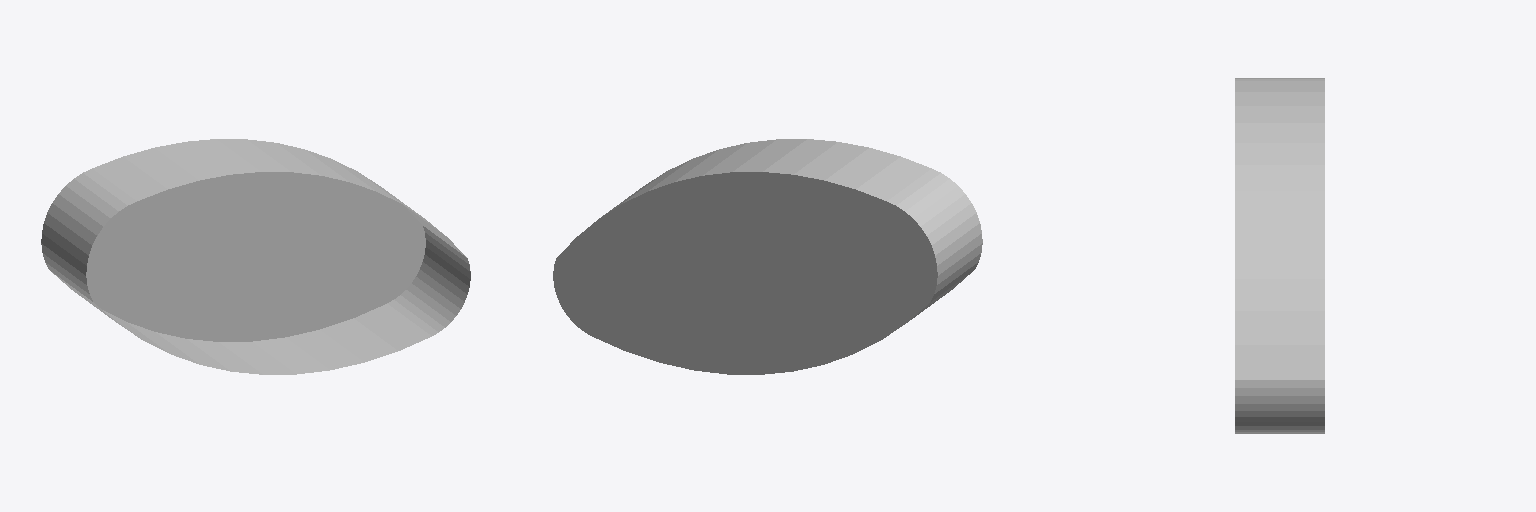
The model's file is original-14.obj.
3 views of the same model, side by side, from view 1: azimuth 30°, elevation 25°; view 2: azimuth 150°, elevation 25°; view 3: azimuth 270°, elevation 25° (orthographic).
Visible parts, largest first — view 1: #ID89; view 2: #ID89; view 3: #ID89.
Boxes of the visible parts, x1=… form: #ID89: x1=41, y1=139, x2=470, y2=374; #ID89: x1=553, y1=139, x2=982, y2=374; #ID89: x1=1235, y1=78, x2=1324, y2=433.
Bounding box in the file's own units: 0.1628 × 0.09 × 0.033.